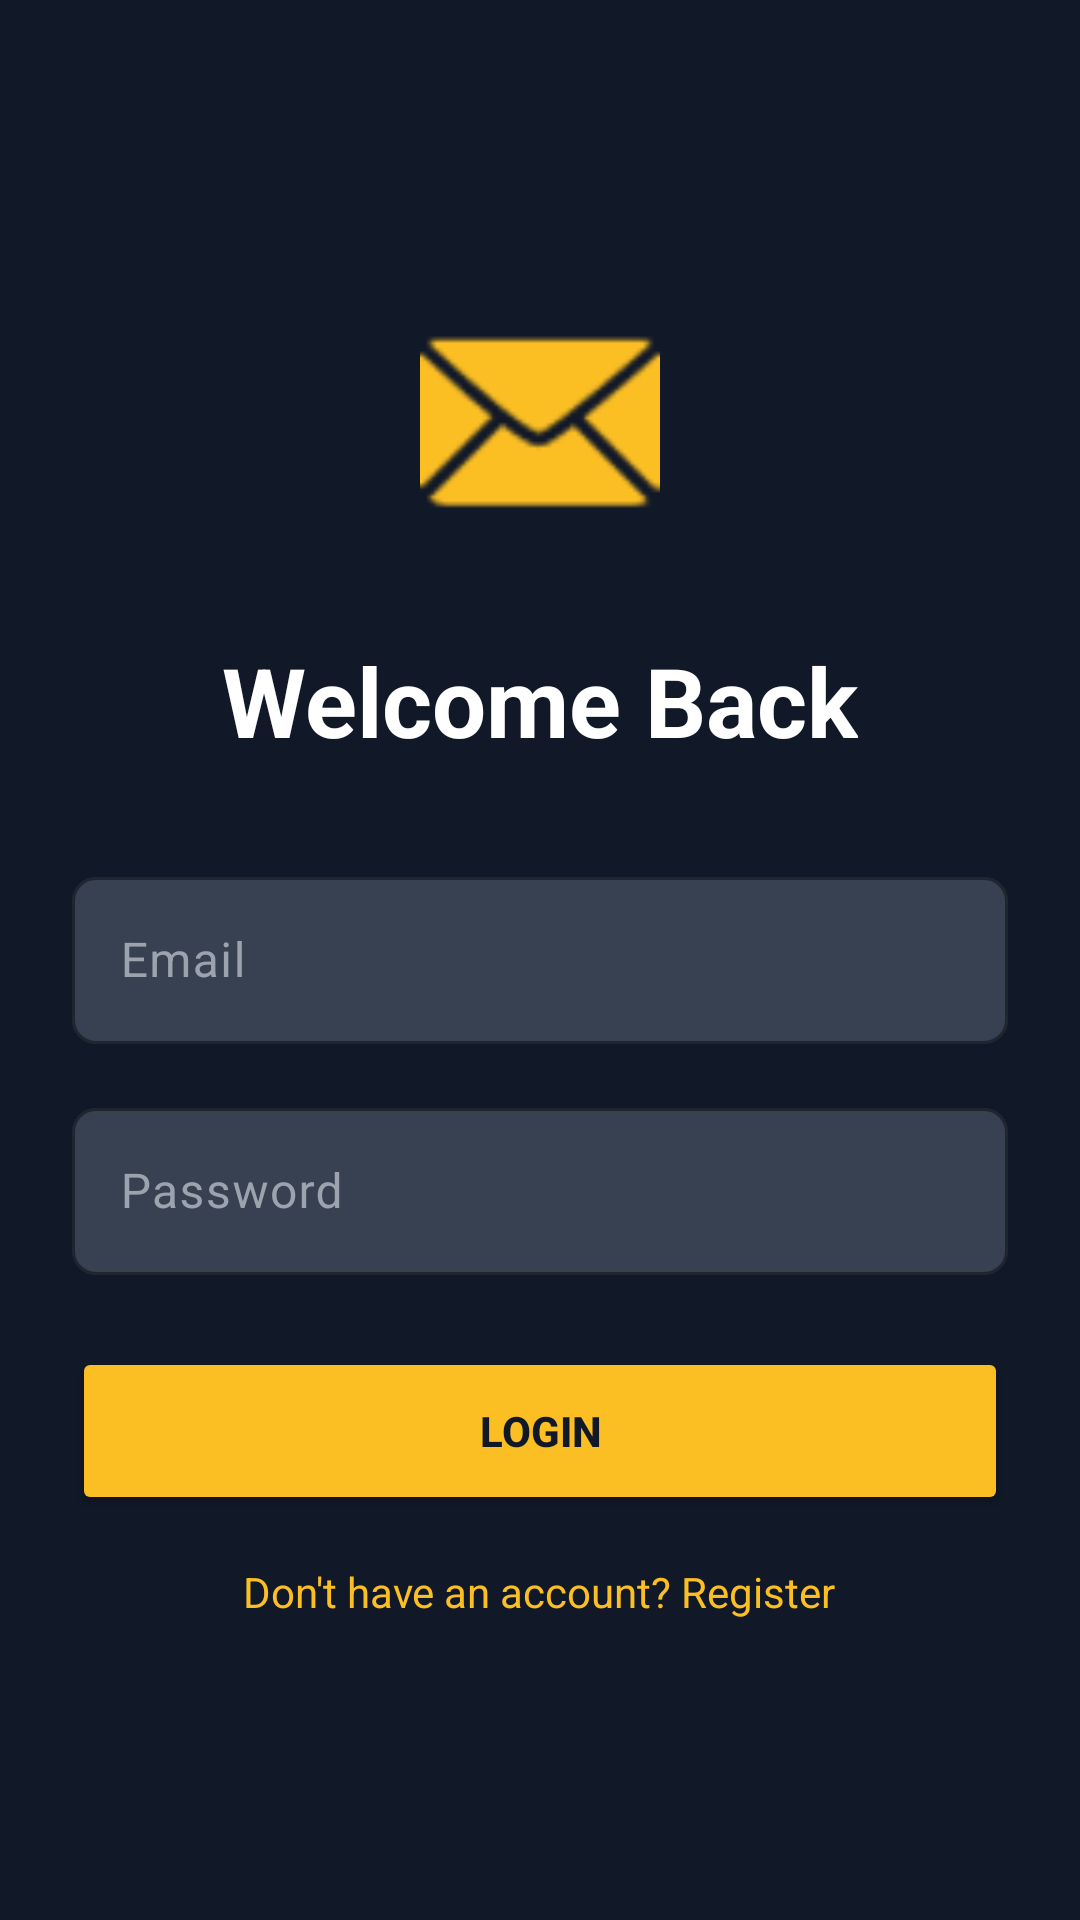

Icon click points for this 1080w x 1920h phone screenshot, format (x,y):
email: (540,422)
